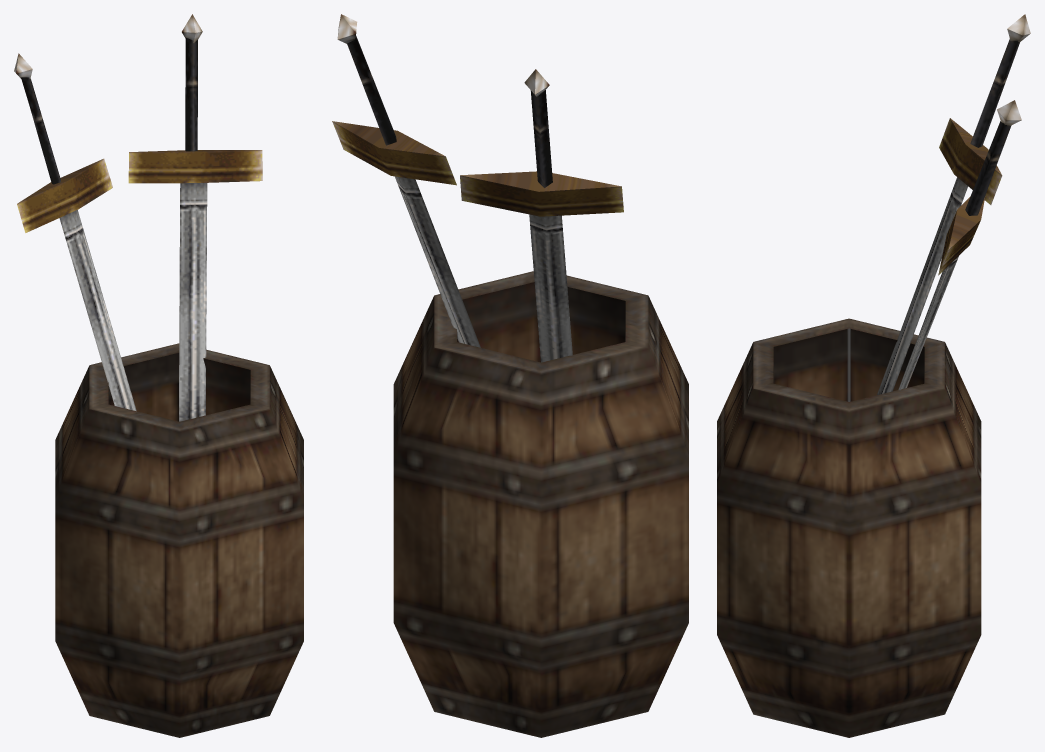
File: SC_yonghengsenlin_11.FBX
3 views of the same model, side by side, from view 1: azimuth 30°, elevation 25°; view 2: azimuth 150°, elevation 25°; view 3: azimuth 270°, elevation 25° (orthographic). The views are drawn at different scales.
Visible parts, largest first — view 1: SC_yonghengsenlin_11; view 2: SC_yonghengsenlin_11; view 3: SC_yonghengsenlin_11.
Part boxes in pixels (box(x1,y1,x2,y2)): SC_yonghengsenlin_11: box(14, 14, 303, 737); SC_yonghengsenlin_11: box(332, 14, 688, 737); SC_yonghengsenlin_11: box(717, 14, 1030, 737).
Bounding box in the file's own units: 73.41 × 166 × 73.96.
